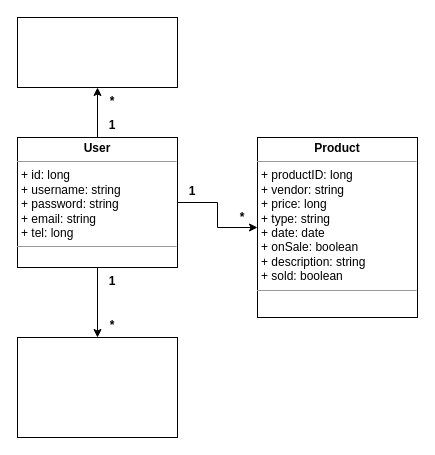
The diagram is 435 pixels wide and 455 high, and some of its shapes have lost their labels. Each missing label, with the centre of its shape:
"Favourited Products + productID: list (?)" belongs at [97,52].
"Opinions + username: string + rating: int + text: string" belongs at [97,387].
